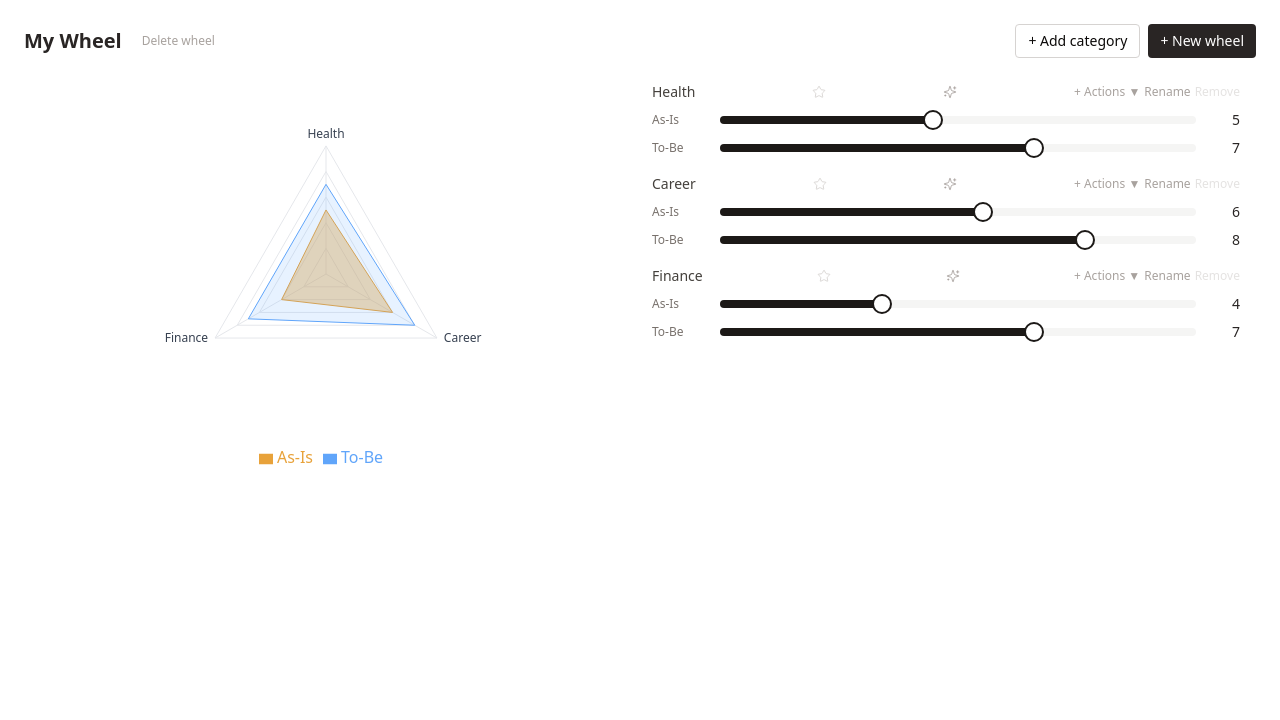
WheelPage › upgrade prompt (WHEEL-06, WHEEL-07) › shows upgrade prompt dialog when free-tier user clicks create wheel and already has one wheel
Click the button "+ New wheel" at (1202, 41), box [1148,24,1256,58]
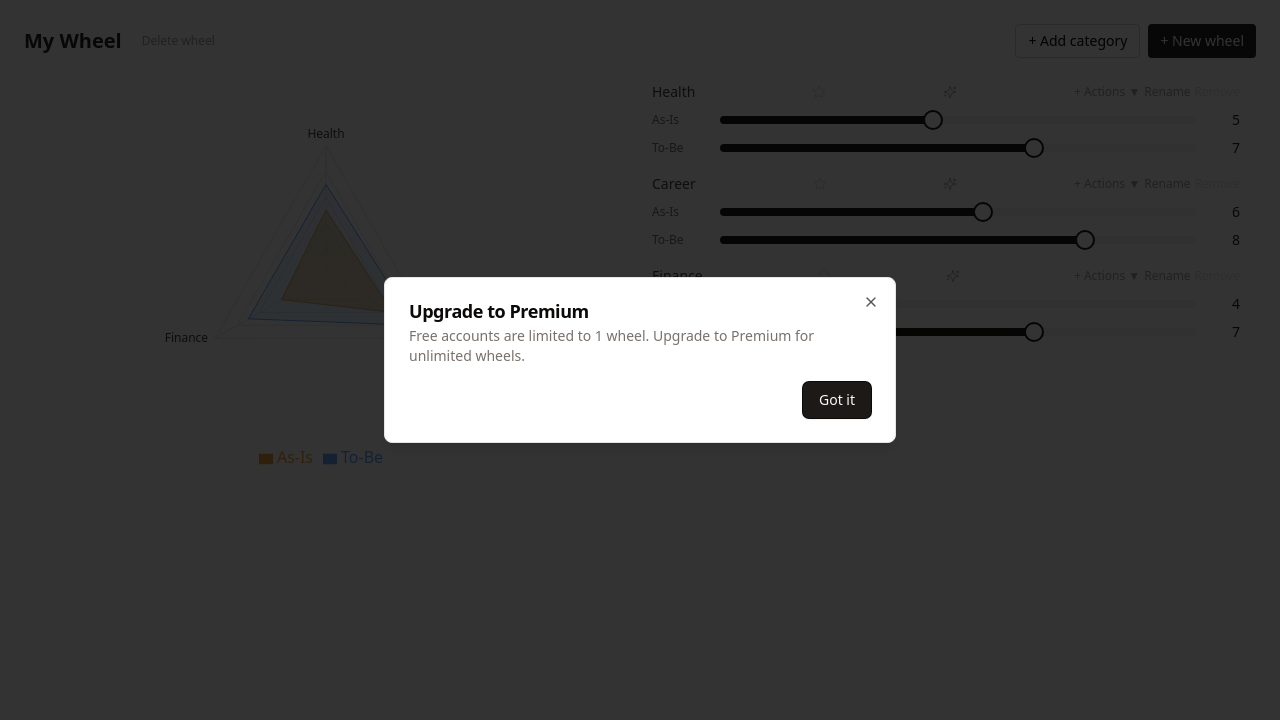
Expected: the heading "Upgrade to Premium" is shown, [409,299,589,323]
